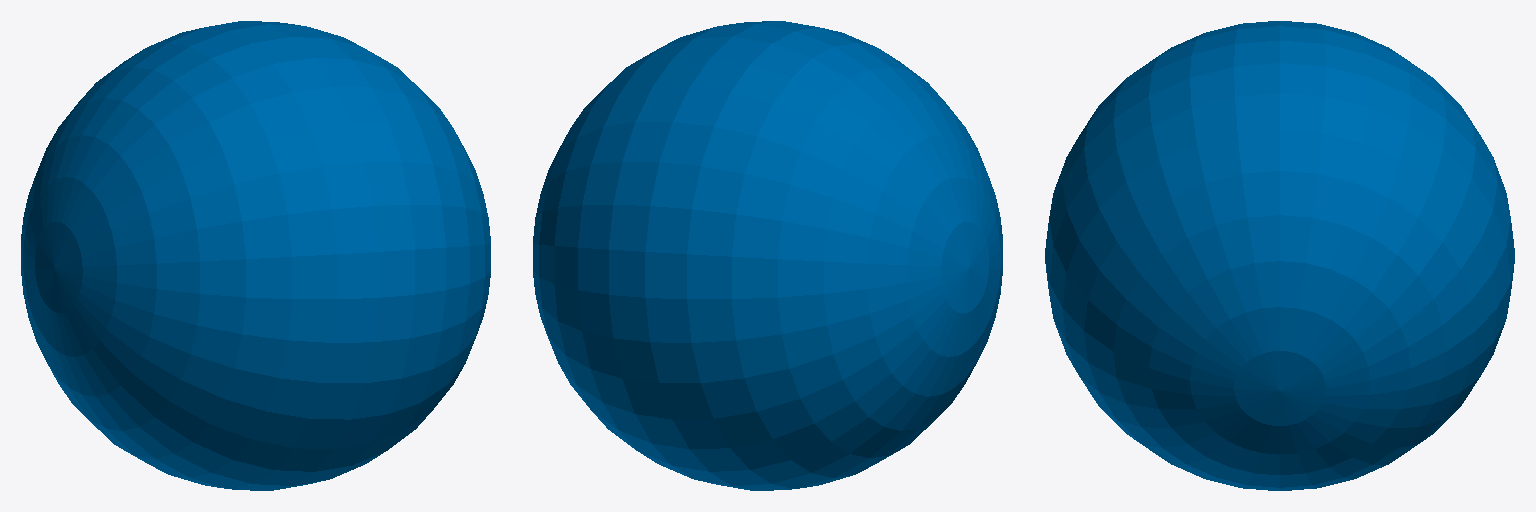
robot.urdf — hyq:
<?xml version="1.0" encoding="utf-8"?>
<robot name="hyq">
  <link name="base_link">
    <inertial>
      <origin xyz="0.0560691331299813 0.021493682967627666 0.0036081141592049586" rpy="0.0 0.0 0.0"/>
      <mass value="60.978"/>
      <inertia ixx="1.5727651692862368" ixy="0.02846518720991833" ixz="-0.20354038112779044" iyy="8.502743030521936" iyz="-0.004425323842294127" izz="9.196486342929056"/>
    </inertial>
  </link>

  <link name="lh_hipassembly">
    <inertial>
      <origin xyz="0.04263 0.0 0.16931" rpy="0.0 0.0 0.0"/>
      <mass value="2.93"/>
      <inertia ixx="0.050710000000000005" ixy="-4.0e-5" ixz="-0.0015900000000000011" iyy="0.054860000000000006" iyz="-5.0e-5" izz="0.00571"/>
    </inertial>
  </link>

  <link name="lh_upperleg">
    <inertial>
      <origin xyz="0.15074 -0.026249999999999996 0.0" rpy="0.0 0.0 0.0"/>
      <mass value="2.638"/>
      <inertia ixx="0.0036799999999999997" ixy="-0.00302" ixz="0.0001" iyy="0.02719" iyz="2.0e-5" izz="0.028109999999999996"/>
    </inertial>
  </link>

  <link name="lh_lowerleg">
    <inertial>
      <origin xyz="0.1254 4.0e-5 -0.0001" rpy="0.0 0.0 0.0"/>
      <mass value="0.881"/>
      <inertia ixx="0.00047" ixy="6.0e-5" ixz="-1.0e-5" iyy="0.01256" iyz="0.0" izz="0.012329999999999999"/>
    </inertial>
  </link>

   <!-- Foot link -->
   <link name="foot">
    <collision>
      <origin xyz="0 0 0" rpy="0 0 0"/>
      <geometry>
        <sphere radius="0.02175"/>
      </geometry>
    </collision>
    <visual>
      <geometry>
        <sphere radius="0.02175" />
      </geometry>
      <material name="black" />
    </visual>
   </link>

  <joint name="lh_haa_joint" type="revolute">
    <parent link="base_link"/>
    <child link="lh_hipassembly"/>
    <origin xyz="-0.3735 0.207 0.0" rpy="0 1.57079632679 -3.1415926535895866"/>
    <axis xyz="0.0 0.0 1.0"/>
    <limit lower="-1.2217304764" upper="0.436332312999" effort="150.0" velocity="12.0"/>
  </joint>

  <joint name="lh_hfe_joint" type="revolute">
    <parent link="lh_hipassembly"/>
    <child link="lh_upperleg"/>
    <origin xyz="0.08 0.0 0.0" rpy="-1.57079632679 0.0 0.0"/>
    <axis xyz="0.0 0.0 1.0"/>
    <limit lower="-1.2217304764" upper="0.872664625997" effort="150.0" velocity="12.0"/>
  </joint>

  <joint name="lh_kfe_joint" type="revolute">
    <parent link="lh_upperleg"/>
    <child link="lh_lowerleg"/>
    <origin xyz="0.35 0.0 0.0" rpy="0.0 0.0 0.0"/>
    <axis xyz="0.0 0.0 1.0"/>
    <limit lower="0.349065850399" upper="2.44346095279" effort="150.0" velocity="12.0"/>
  </joint>

   <!-- Foot joint -->
   <joint name="foot_joint" type="revolute">
    <origin xyz="0.341 0 0" rpy="1.57079632679 0 -1.57079632679"/>
    <parent link="lh_lowerleg"/>
    <child  link="foot"/>
   </joint>

</robot>

--- Render facts (derived) ---
Views: 3 orthographic renders of the robot side by side, from view 1: azimuth 30°, elevation 25°; view 2: azimuth 150°, elevation 25°; view 3: azimuth 270°, elevation 25°.
Robot: hyq — 5 links, 4 joints (4 revolute); root link base_link; default pose: joints at zero except 1 at the middle of their limits (lh_kfe_joint = 1.4).
Visible links, largest first — view 1: foot; view 2: foot; view 3: foot.
Link boxes in pixels (bbox=[...]): foot: bbox=[21, 21, 490, 490]; foot: bbox=[533, 21, 1002, 490]; foot: bbox=[1045, 21, 1514, 490].
Bounding box of the posed robot: 0.0435 × 0.0435 × 0.0435 m (x, y, z).
Geometry: primitives only (box / cylinder / sphere), no mesh files.